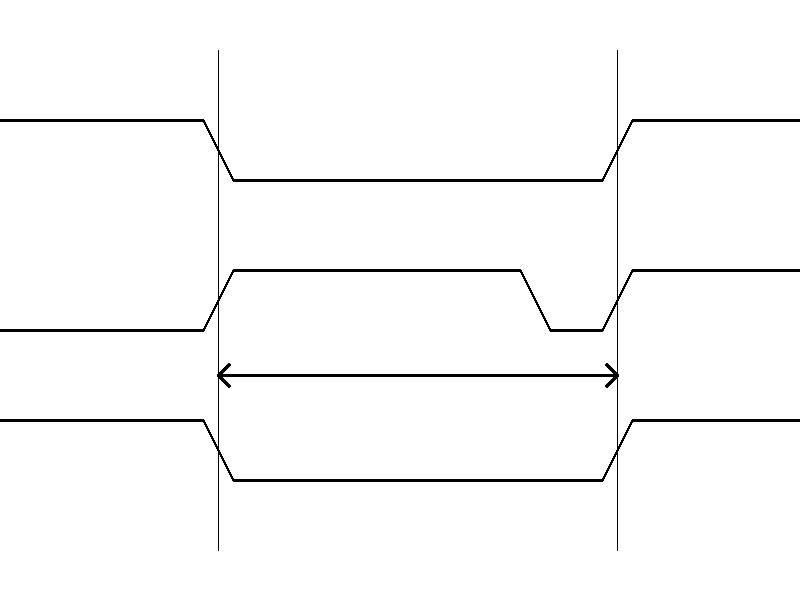double_arrow: (218, 360, 617, 390)
